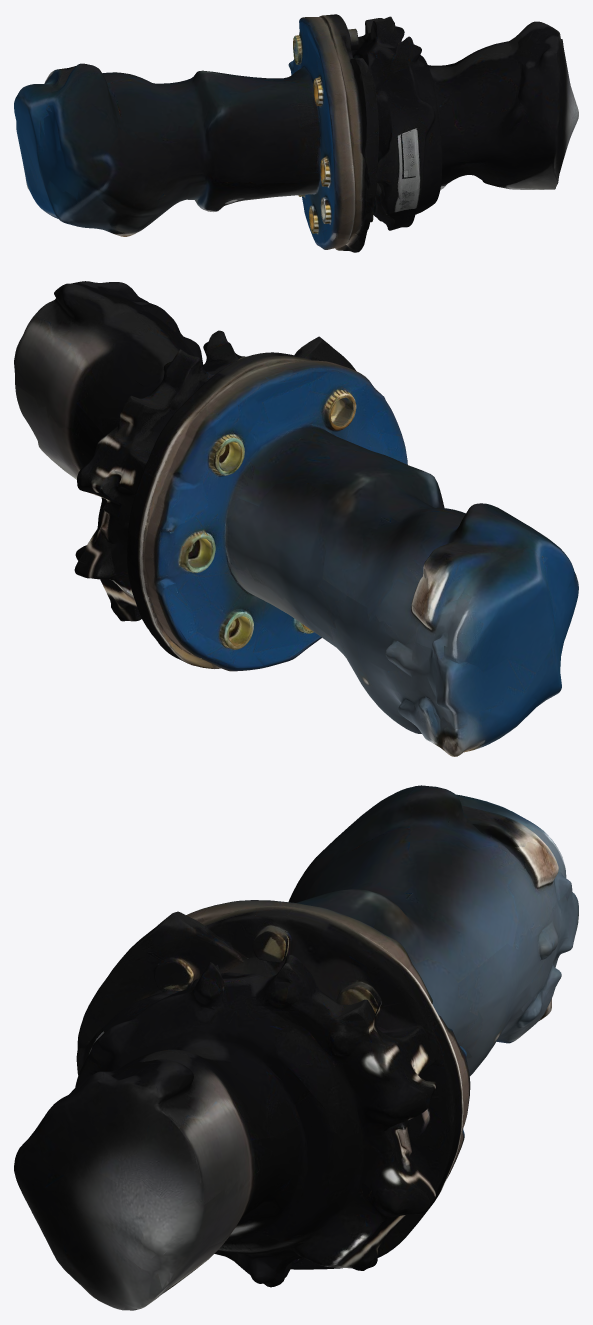
The picture shows the model from 3 angles, top to bottom: view 1: azimuth 30°, elevation 25°; view 2: azimuth 150°, elevation 25°; view 3: azimuth 270°, elevation 25°; orthographic projection. The views are drawn at different scales.
Parts seen in each view (by area): view 1: 0; view 2: 0; view 3: 0.
Part boxes in pixels (x1,y1,x2,y2): 0: (14,14,578,252); 0: (14,281,578,756); 0: (14,785,578,1310).
Bounding box in the file's own units: 0.3884 × 0.1749 × 0.2556.
1 material, 1 textured.
